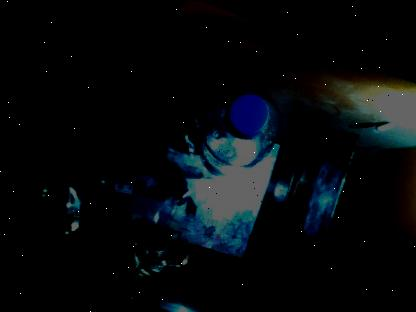Plastic Bottle: (192, 85, 282, 181)
